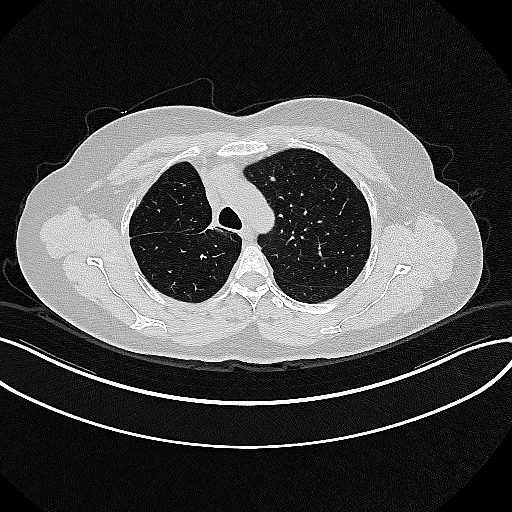nodule: (270, 176, 275, 181)
